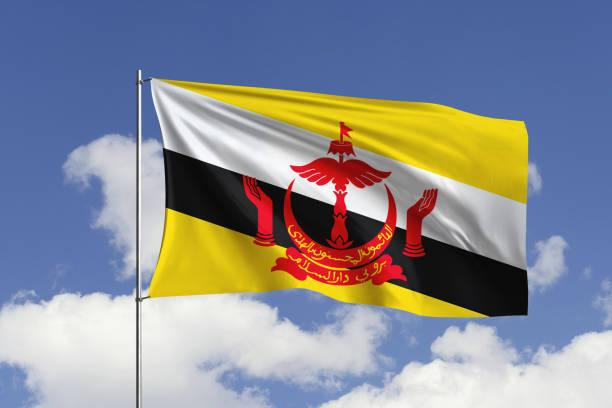Brunei: (145, 77, 532, 322)
